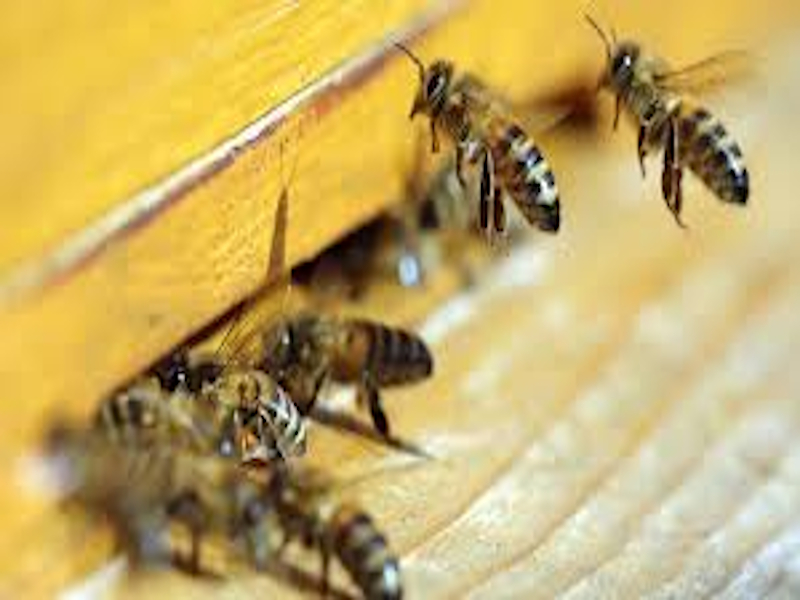abeja: (375, 28, 576, 254), (583, 20, 769, 229), (243, 285, 414, 453), (241, 466, 408, 600)
